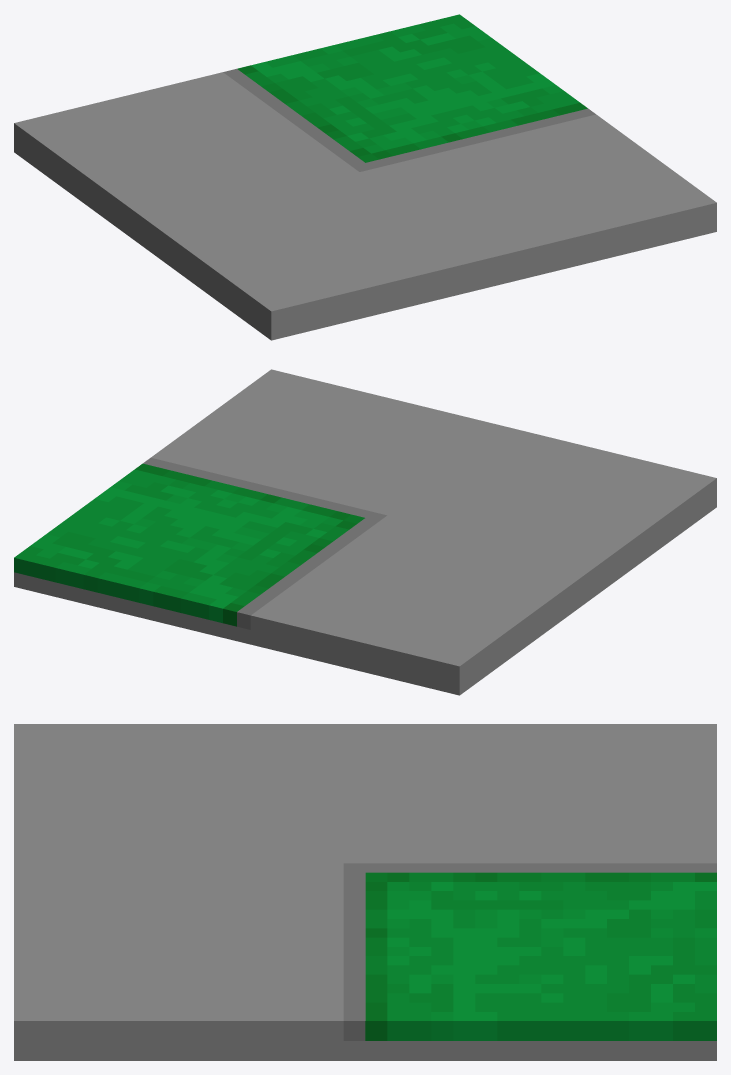
File: forest-city-edgy-edge-outer-3.gltf
3 renders of one model, top to bottom at view 1: azimuth 30°, elevation 25°; view 2: azimuth 150°, elevation 25°; view 3: azimuth 270°, elevation 25°, orthographic. The views are drawn at different scales.
Visible parts, largest first — view 1: forest-city-edgy-edge-outer-3; view 2: forest-city-edgy-edge-outer-3; view 3: forest-city-edgy-edge-outer-3.
Part boxes in pixels (bbox=[...]): forest-city-edgy-edge-outer-3: bbox=[14, 14, 716, 340]; forest-city-edgy-edge-outer-3: bbox=[14, 369, 716, 695]; forest-city-edgy-edge-outer-3: bbox=[14, 724, 716, 1060].
Size of the model in its own units: 3.2 by 0.2 by 3.2.
1 material, 1 textured.
